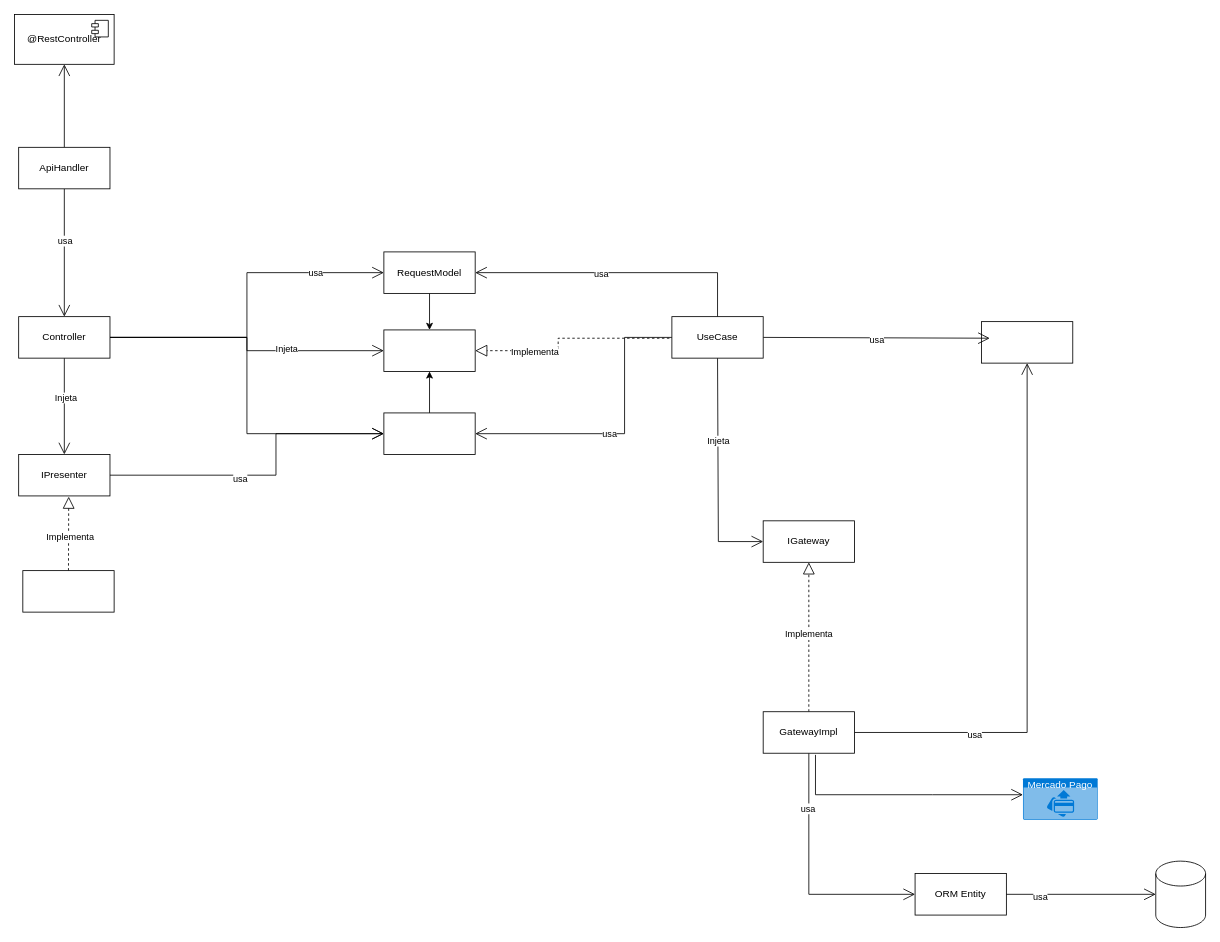
This 1220x942 diagram has some shape labels left out. Each missing label, with the centre of its shape:
"DB" goes at (x=1180, y=894).
"Domain Entity" goes at (x=1027, y=342).
"IUseCase" goes at (x=429, y=350).
"PresenterImpl" goes at (x=68, y=591).
"ResponseModel" goes at (x=429, y=433).
